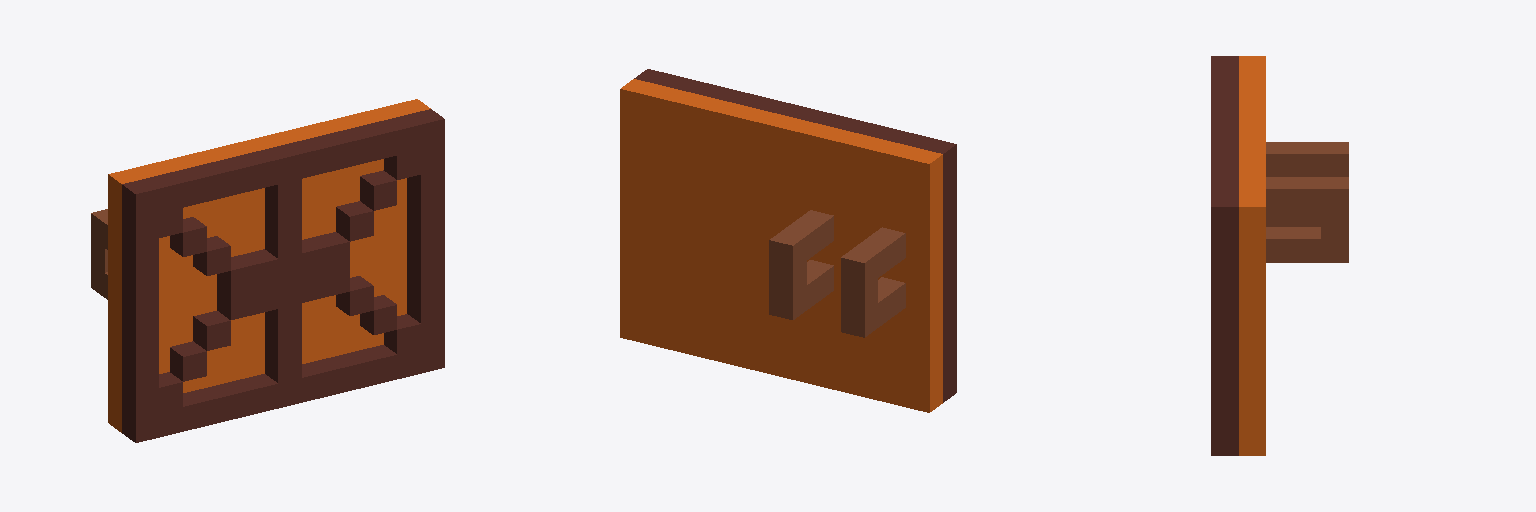
3 renders of one model, left to right at view 1: azimuth 30°, elevation 25°; view 2: azimuth 150°, elevation 25°; view 3: azimuth 270°, elevation 25°, orthographic.
Visible parts, largest first — view 1: object 1; view 2: object 1; view 3: object 1.
Boxes of the visible parts, box(x1,y1,x2,y2) form: object 1: box(91, 99, 444, 442); object 1: box(620, 69, 956, 412); object 1: box(1211, 56, 1348, 455).
Bounding box in the file's own units: 1.3 × 1 × 0.5.
1 materials, 1 textured.